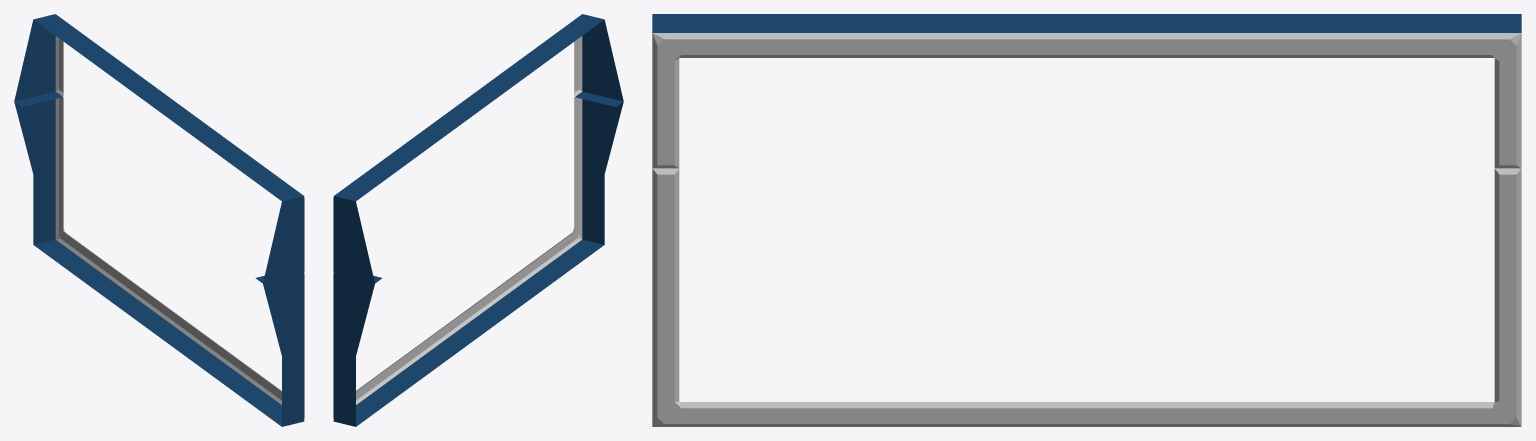
Rendered from pinggiran check.obj.
The picture shows the model from 3 angles, left to right: view 1: azimuth 30°, elevation 25°; view 2: azimuth 150°, elevation 25°; view 3: azimuth 270°, elevation 25°; orthographic projection. The views are drawn at different scales.
Visible parts, largest first — view 1: Plane.004; view 2: Plane.004; view 3: Plane.004.
Part boxes in pixels (<box>): Plane.004: <box>14,14,304,426</box>; Plane.004: <box>333,14,623,426</box>; Plane.004: <box>652,14,1521,426</box>.
Size of the model in its own units: 3.73 by 18.53 by 37.04.
